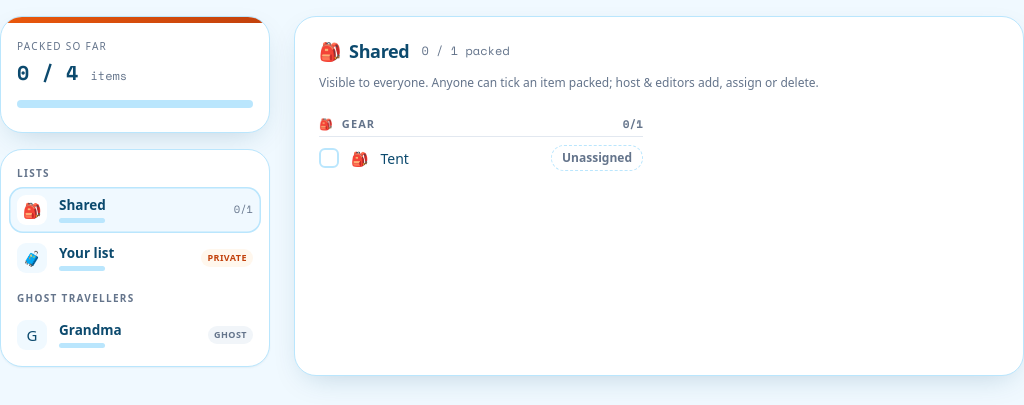
Test: Packing › viewer can + Add on their own list
The width and height of the screenshot is (1024, 405).
Click the button "🧳 Your list Private". click: [135, 258]
box: [9,235,261,281]
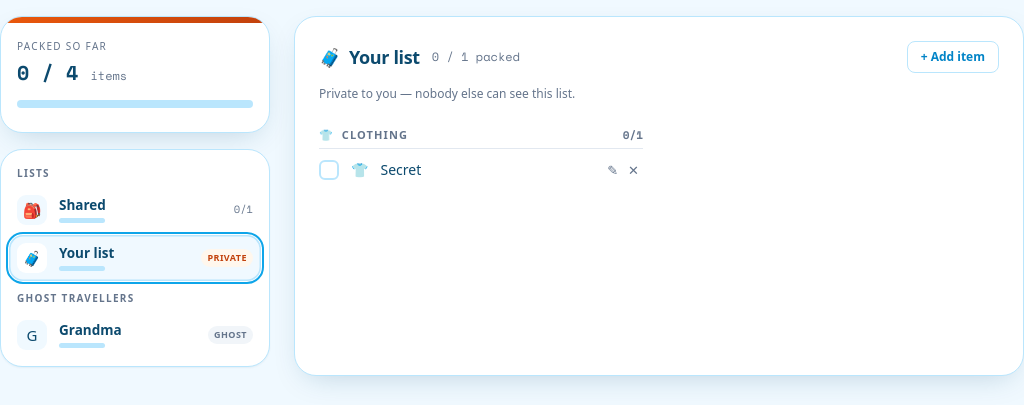
Now the button "+ Add item" is shown, box [907,41,999,73]
